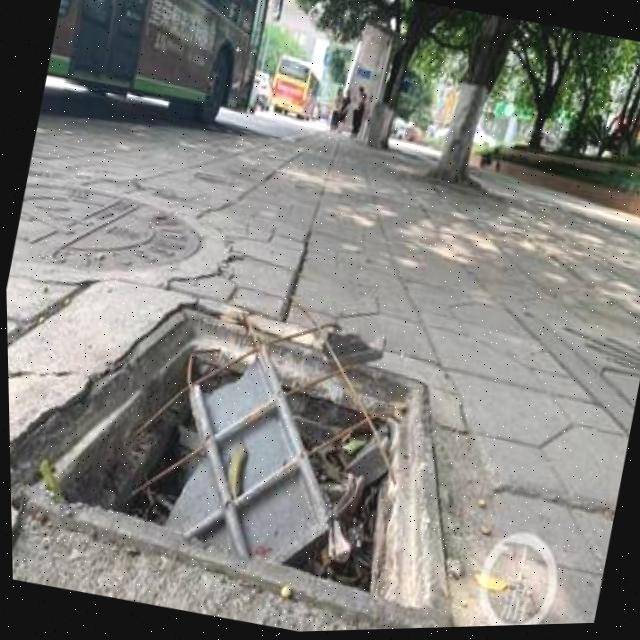manhole: (5, 252, 509, 640)
